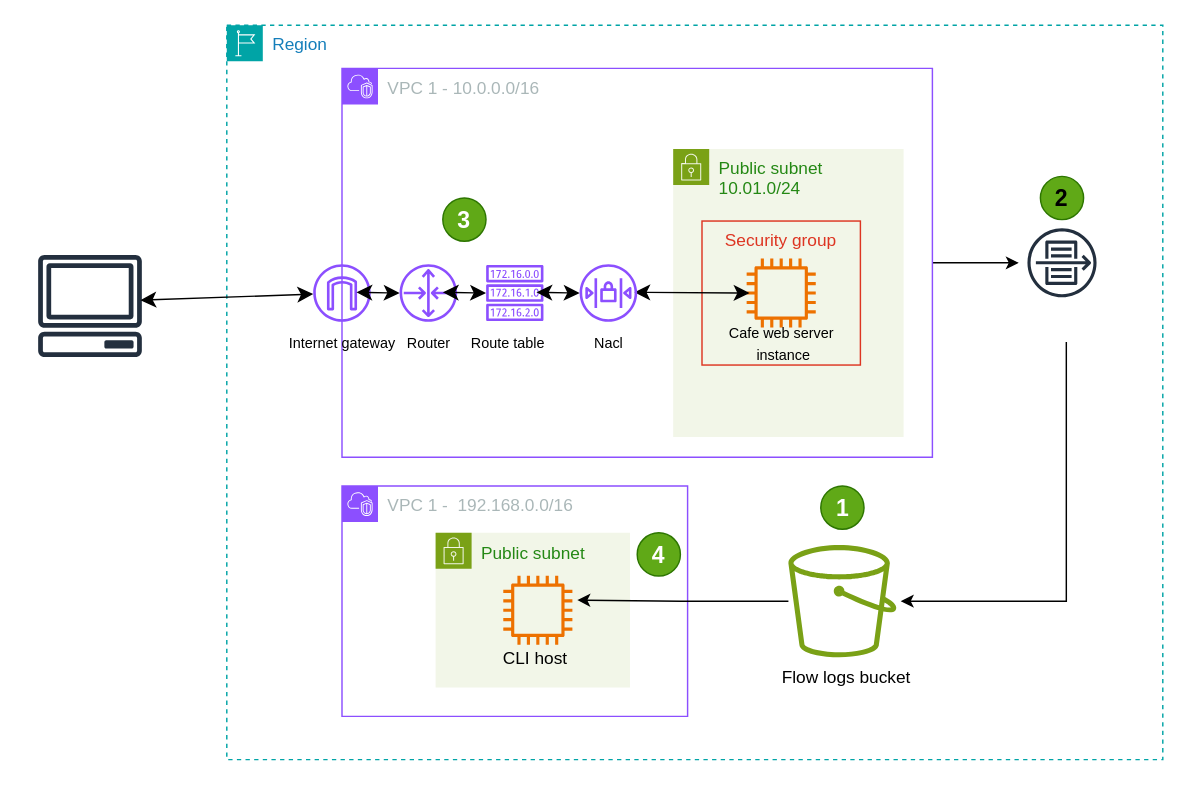
The diagram is 1188 pixels wide and 785 high, and some of its shapes have lost their labels. The centre of each missing label's shape, as x and y in pixels:
"Client" goes at (89,305).
"Flow logs" goes at (1061,262).
